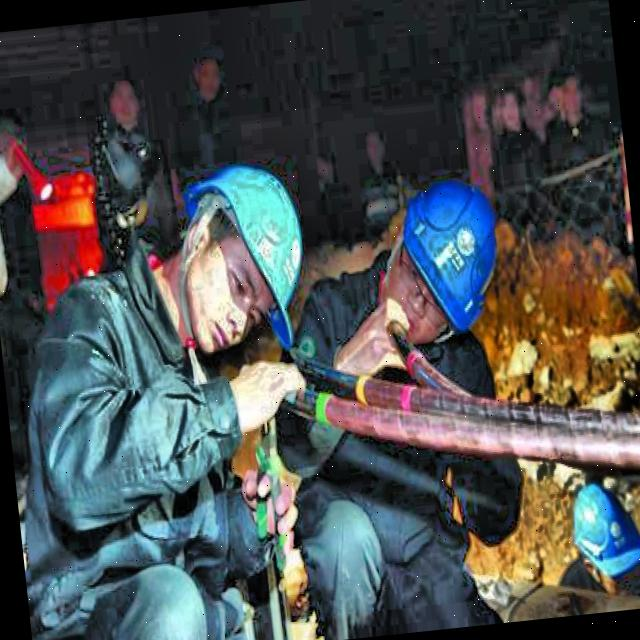helmet: (162, 138, 330, 362), (371, 161, 518, 362), (553, 461, 640, 602)
